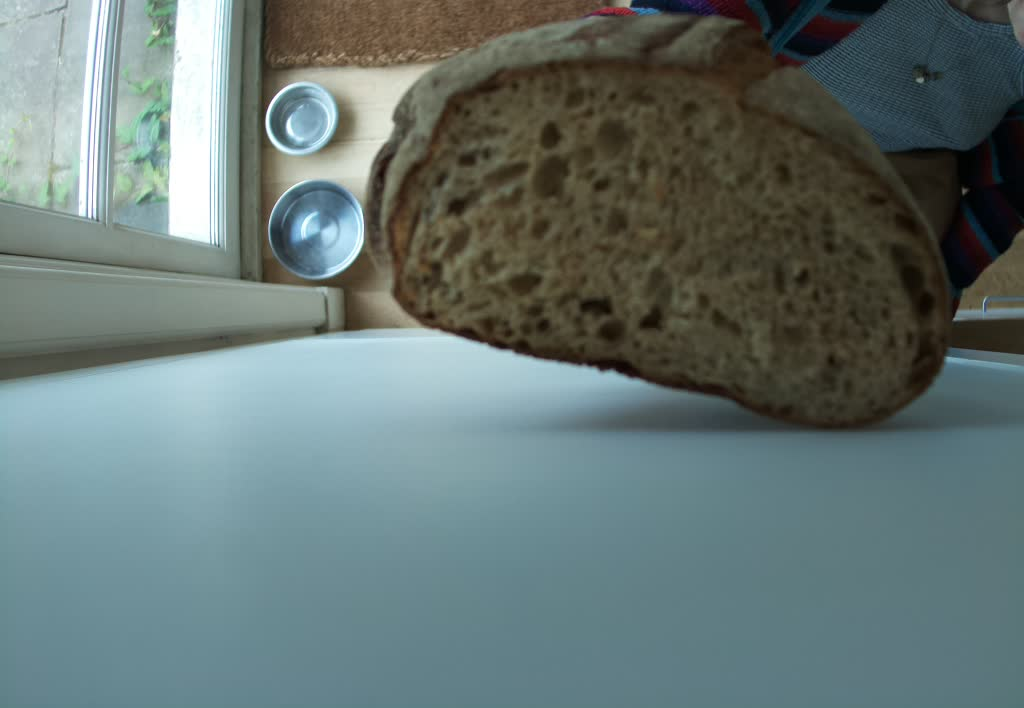bread: (361, 12, 959, 419)
